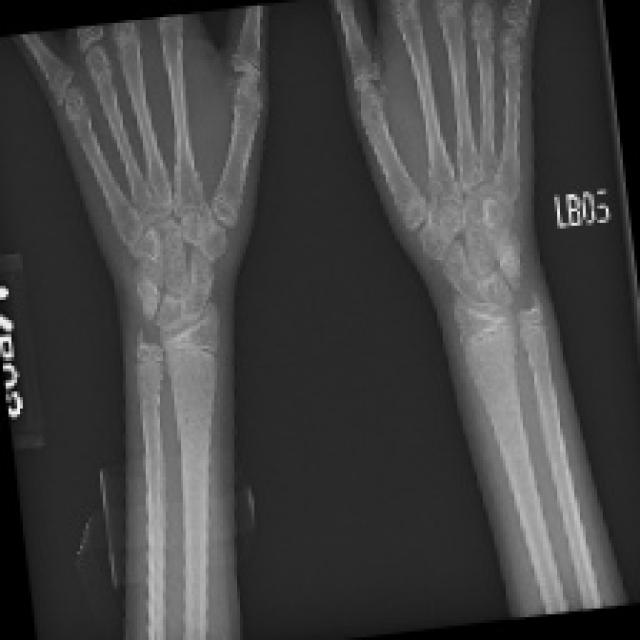fracture: (108, 278, 206, 372), (494, 256, 576, 346)
